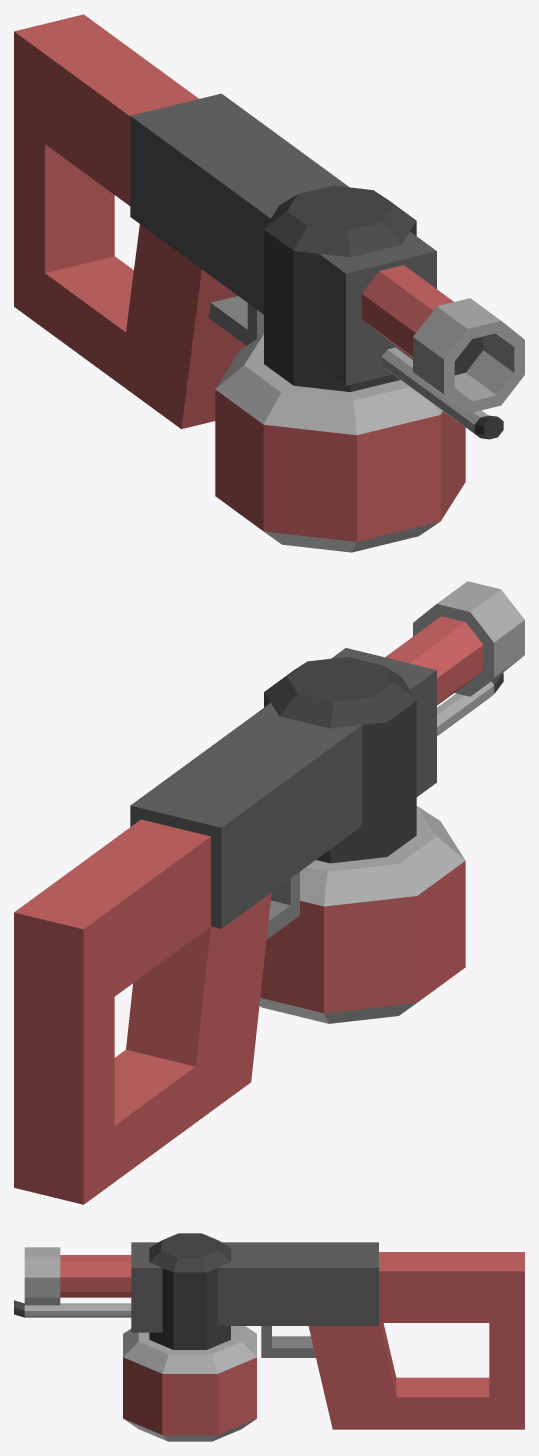
The model's file is flamethrower.fbx.
3 renders of one model, top to bottom at view 1: azimuth 30°, elevation 25°; view 2: azimuth 150°, elevation 25°; view 3: azimuth 270°, elevation 25°, orthographic. The views are drawn at different scales.
Parts seen in each view (by area): view 1: Mesh1_Group2 Group1 Model, Mesh2_Group3 Group1 Model; view 2: Mesh1_Group2 Group1 Model, Mesh2_Group3 Group1 Model; view 3: Mesh1_Group2 Group1 Model, Mesh2_Group3 Group1 Model.
Part boxes in pixels (left/top/right/bottom): Mesh1_Group2 Group1 Model: left=14, top=14, right=524, bottom=439; Mesh2_Group3 Group1 Model: left=215, top=335, right=465, bottom=552; Mesh1_Group2 Group1 Model: left=14, top=581, right=524, bottom=1204; Mesh2_Group3 Group1 Model: left=259, top=806, right=465, bottom=1023; Mesh1_Group2 Group1 Model: left=14, top=1233, right=524, bottom=1429; Mesh2_Group3 Group1 Model: left=123, top=1326, right=256, bottom=1441.
Bounding box in the file's own units: 0.0226 × 0.0324 × 0.0861.
